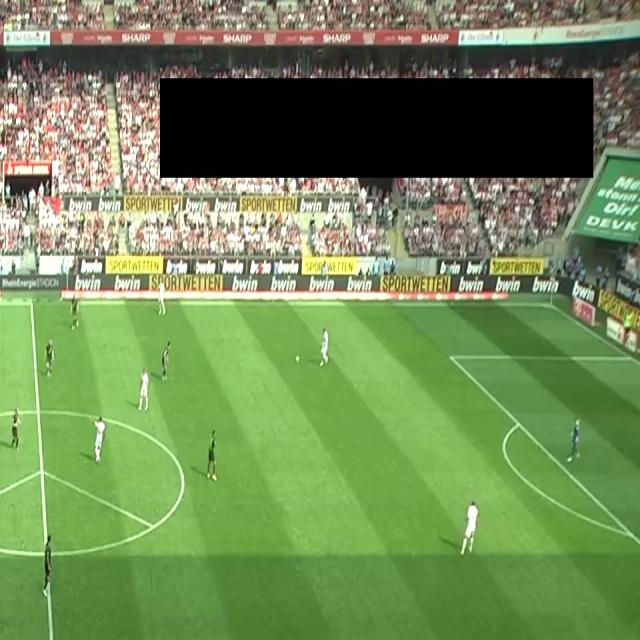ball: (292, 349, 302, 370)
goalkeeper: (566, 412, 584, 471)
soccer-player: (459, 498, 482, 562), (43, 526, 58, 598), (206, 424, 221, 486), (12, 404, 28, 454), (68, 280, 83, 332), (135, 363, 150, 413), (44, 339, 59, 387), (92, 412, 104, 467), (321, 325, 333, 373), (160, 339, 172, 384), (157, 276, 168, 319)
